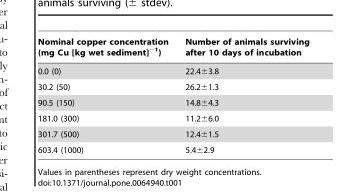table: (37, 37, 308, 154)
table column: (37, 37, 176, 154), (176, 37, 308, 154)
table column header: (37, 37, 308, 61)
table row: (37, 37, 308, 61), (37, 61, 308, 78), (37, 78, 308, 94), (37, 94, 308, 110), (37, 125, 308, 141), (37, 110, 308, 125), (37, 141, 308, 154)
